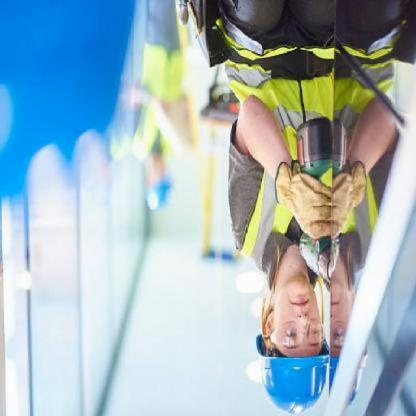vest: (226, 41, 331, 263)
